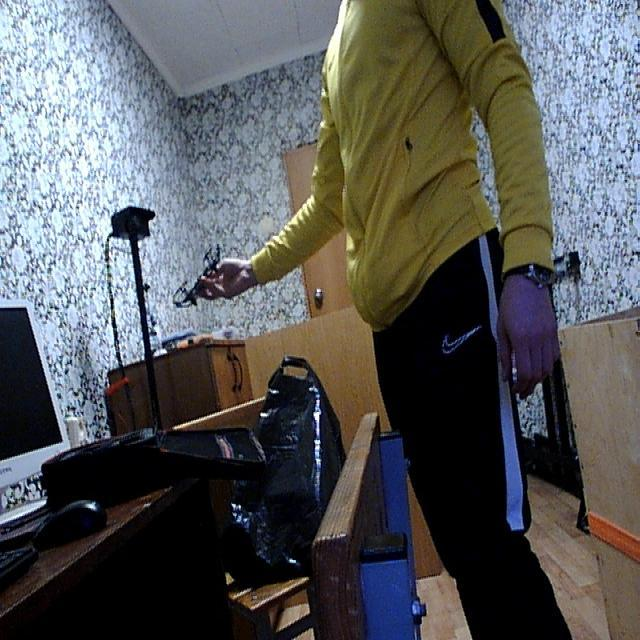drone: (166, 238, 232, 318)
